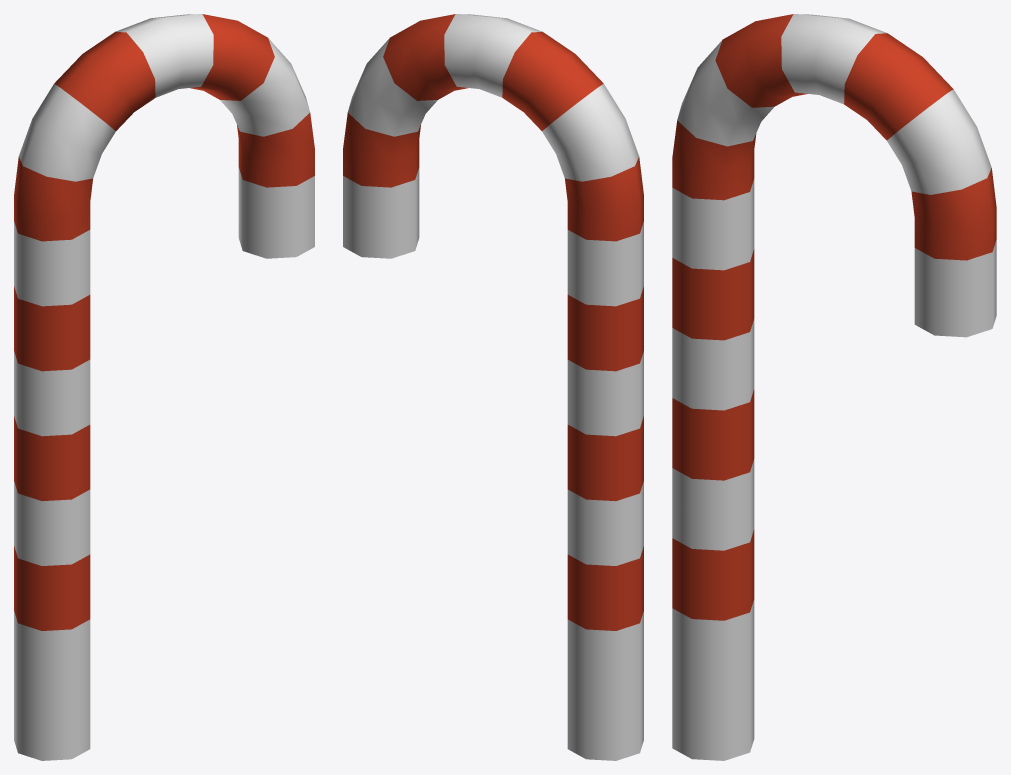
File: ChristmasLollipop_01.glb
3 renders of one model, left to right at view 1: azimuth 30°, elevation 25°; view 2: azimuth 150°, elevation 25°; view 3: azimuth 330°, elevation 25°, orthographic. The views are drawn at different scales.
Visible parts, largest first — view 1: ChristmasLollipop_01; view 2: ChristmasLollipop_01; view 3: ChristmasLollipop_01.
Part boxes in pixels (<box>): ChristmasLollipop_01: <box>14,14,314,760</box>; ChristmasLollipop_01: <box>343,14,643,760</box>; ChristmasLollipop_01: <box>672,14,996,760</box>.
Bounding box in the file's own units: 0.1113 × 0.254 × 0.0259.
1 material, 1 textured.
